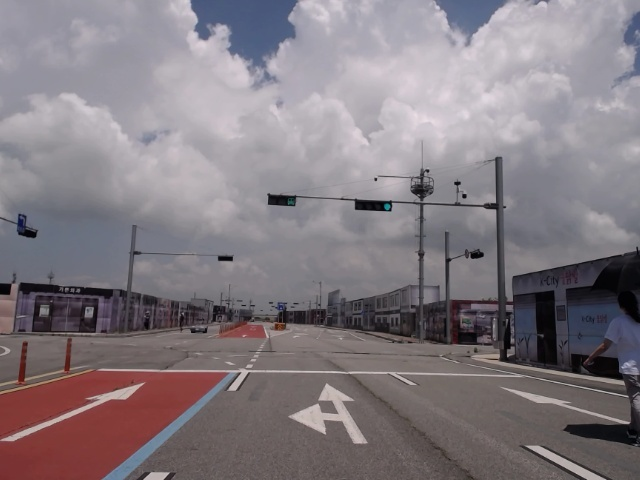straight_green_4: (354, 197, 394, 212)
